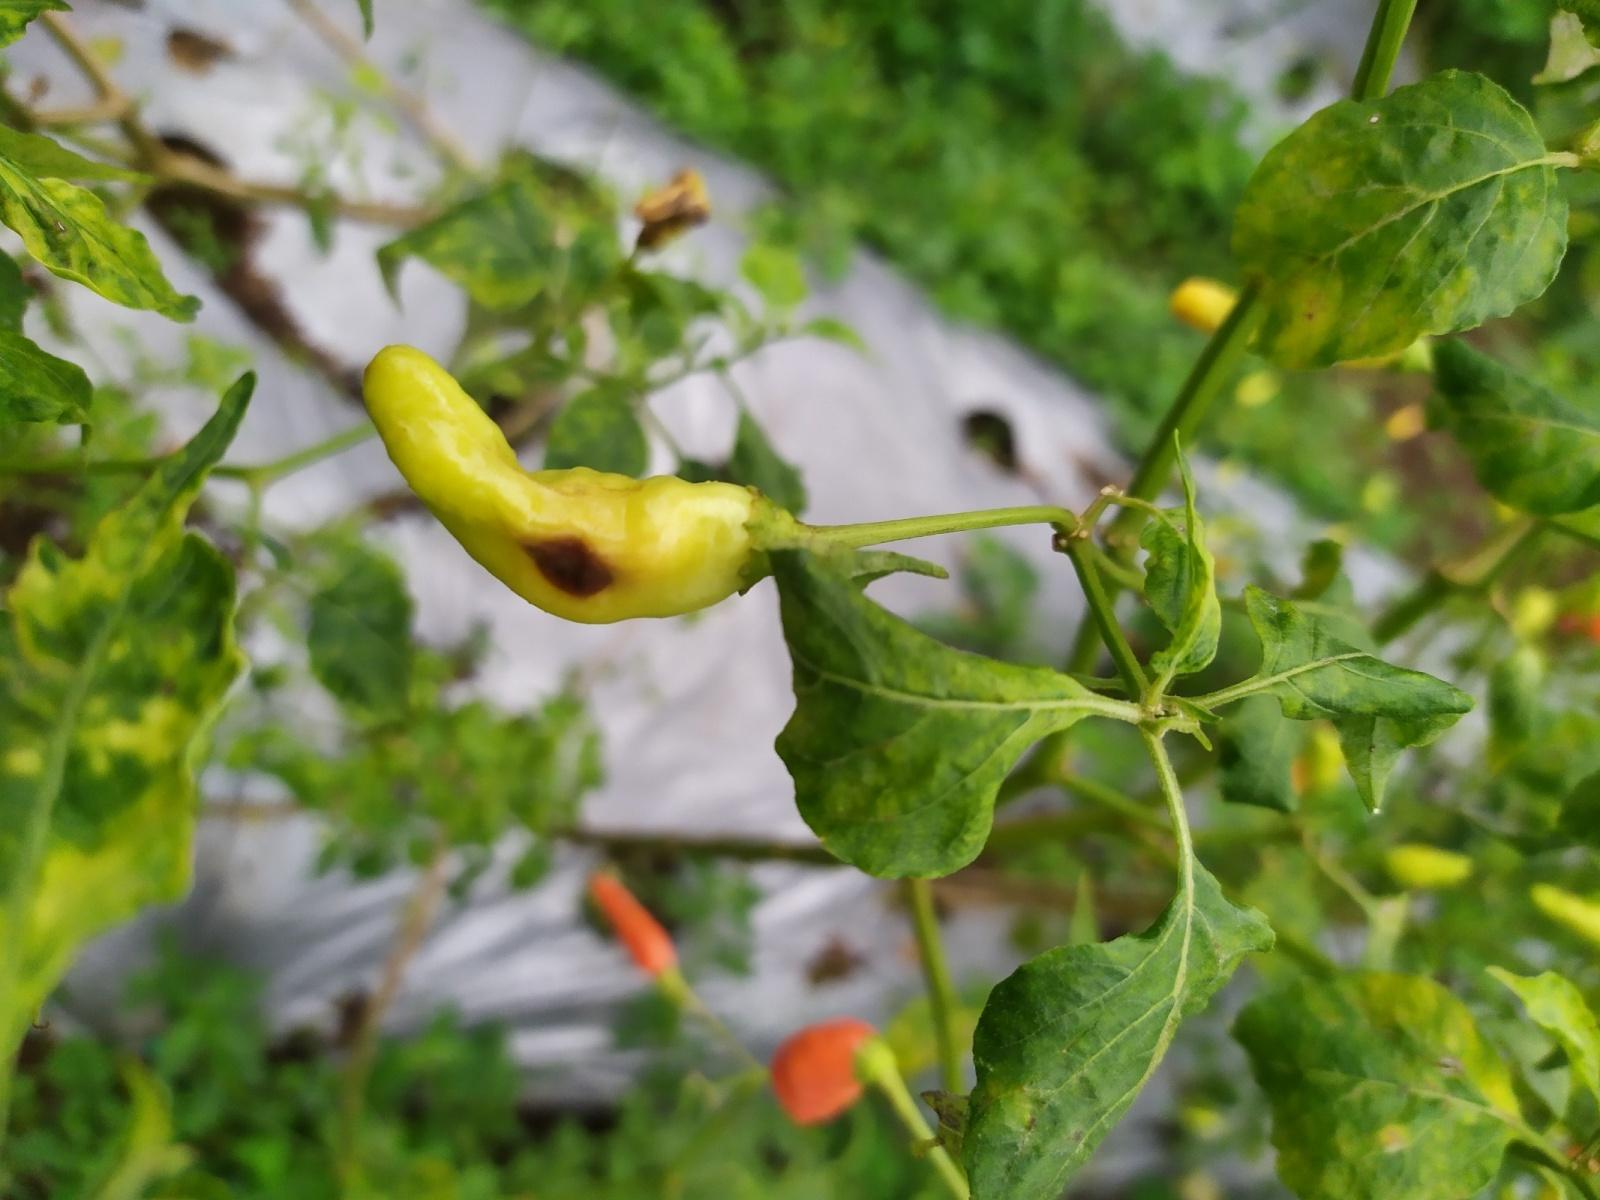antraknosa: (354, 342, 763, 626)
cabai_normal: (769, 1017, 878, 1124), (588, 868, 683, 978)
